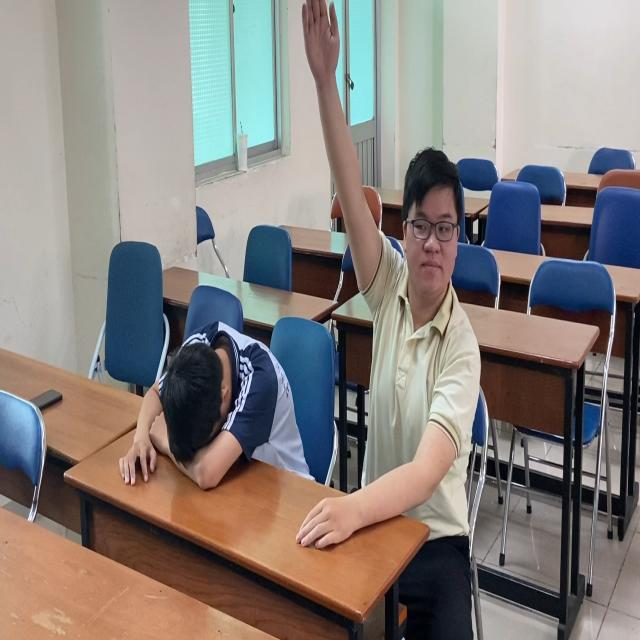raise_hand: (298, 1, 481, 541)
sleep: (111, 302, 306, 504)
